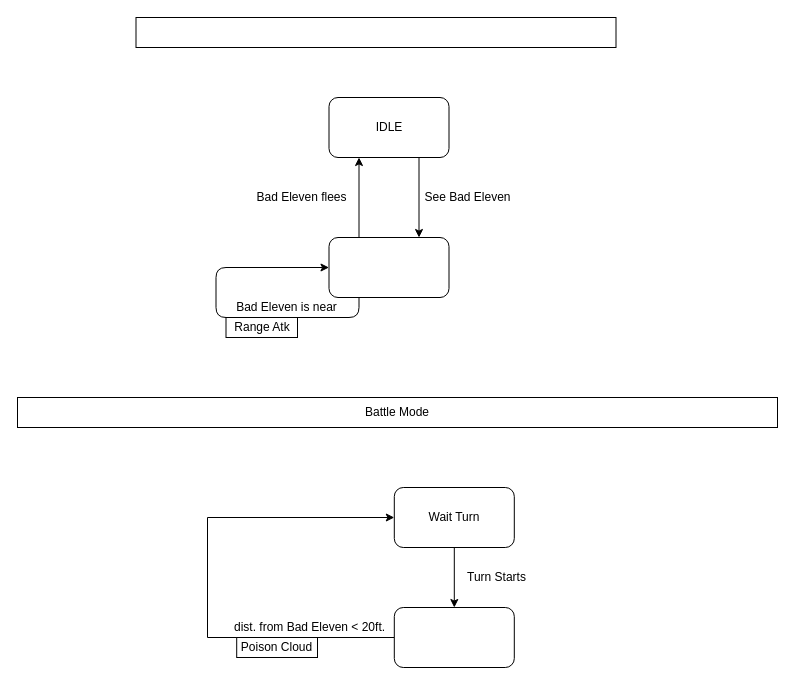
Some shapes in this 795 by 685 pixel diagram are drawn without their labels. The centre of each missing label's shape, as x and y in pixels:
Action One: [453,637]
AGGRESSIVE: [388,267]
Free Roaming: [375,32]
